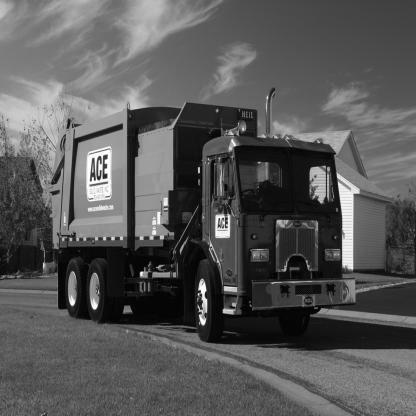truck: (39, 80, 373, 366)
